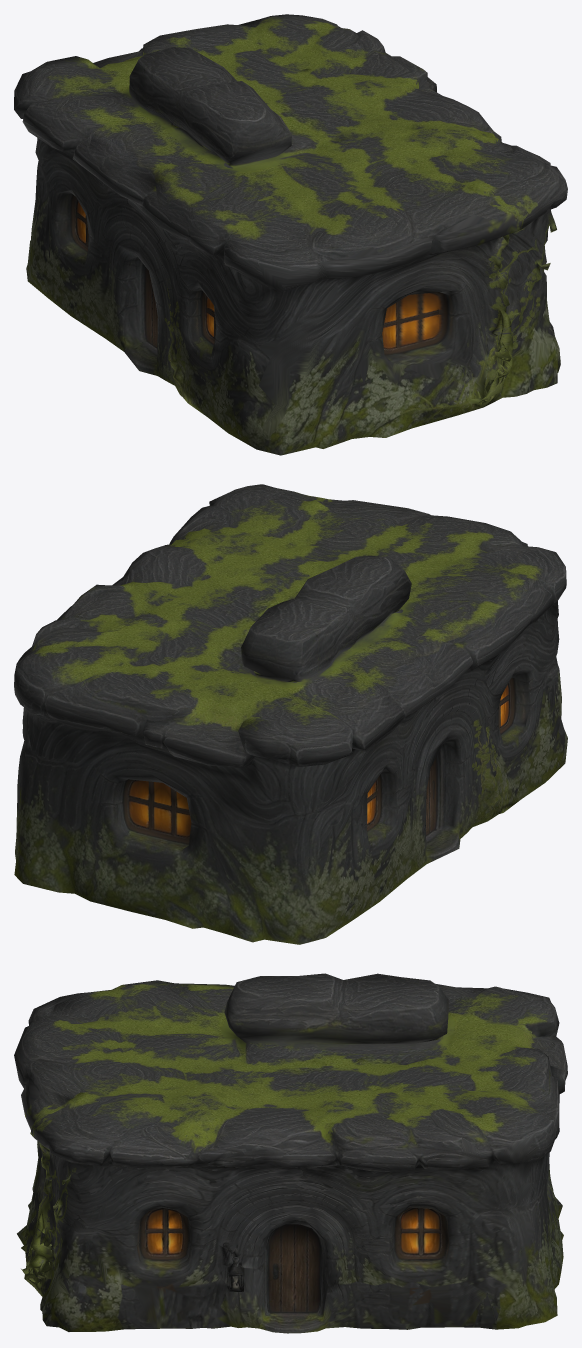
File: Roduro_Home_5k.glb
3 views of the same model, one above another, from view 1: azimuth 30°, elevation 25°; view 2: azimuth 150°, elevation 25°; view 3: azimuth 270°, elevation 25° (orthographic). The views are drawn at different scales.
Parts seen in each view (by area): view 1: roduro_home_5k; view 2: roduro_home_5k; view 3: roduro_home_5k.
Boxes of the visible parts, box(x1,y1,x2,y2) form: roduro_home_5k: box(14, 14, 567, 455); roduro_home_5k: box(14, 484, 567, 944); roduro_home_5k: box(14, 973, 567, 1333).
Size of the model in its own units: 8.11 by 5.5 by 11.39.
1 material, 1 textured.
